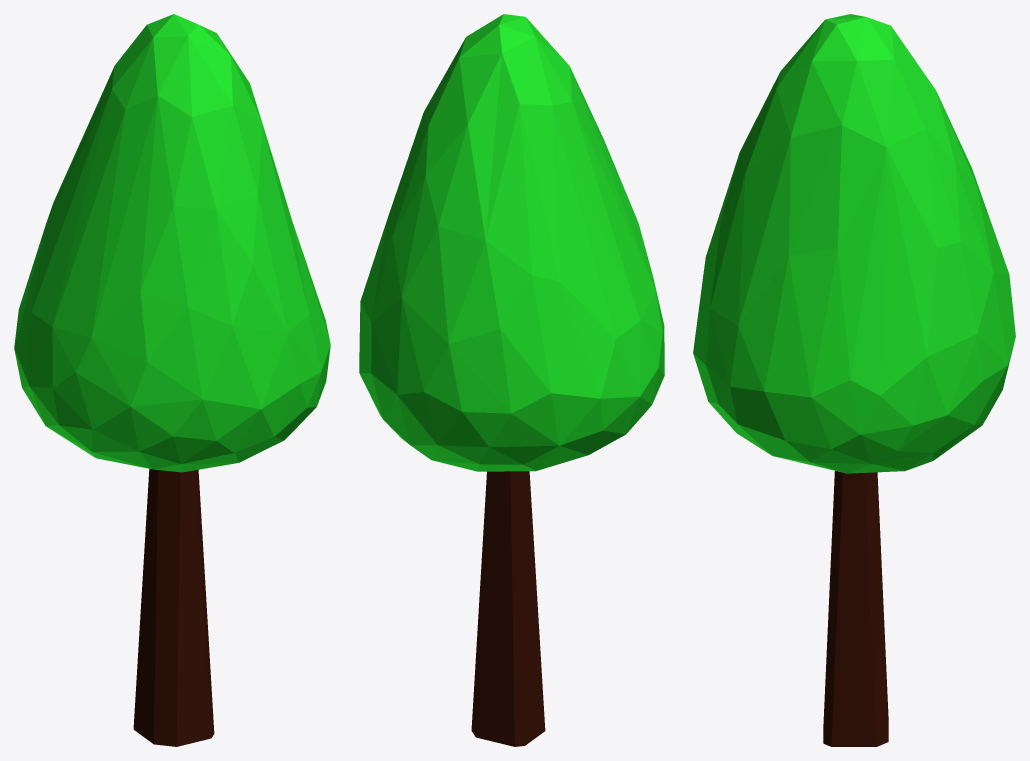
The model's file is tree2_v2.fbx.
The picture shows the model from 3 angles, left to right: view 1: azimuth 30°, elevation 25°; view 2: azimuth 150°, elevation 25°; view 3: azimuth 270°, elevation 25°; orthographic projection.
Parts seen in each view (by area): view 1: Cube; view 2: Cube; view 3: Cube.
Part boxes in pixels (left/top/right/bottom): Cube: left=14, top=14, right=330, bottom=746; Cube: left=359, top=14, right=664, bottom=746; Cube: left=693, top=14, right=1015, bottom=746.
Bounding box in the file's own units: 383 × 960 × 391.
